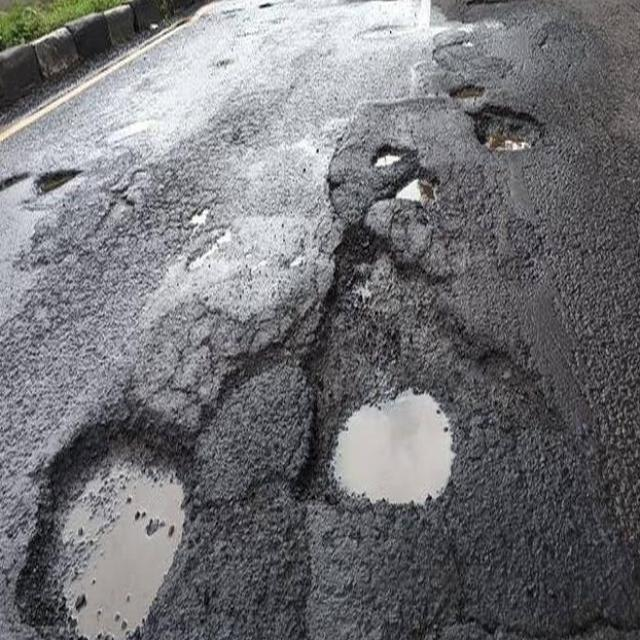Lubang: (13, 414, 198, 640), (317, 382, 469, 508), (476, 106, 548, 153)
